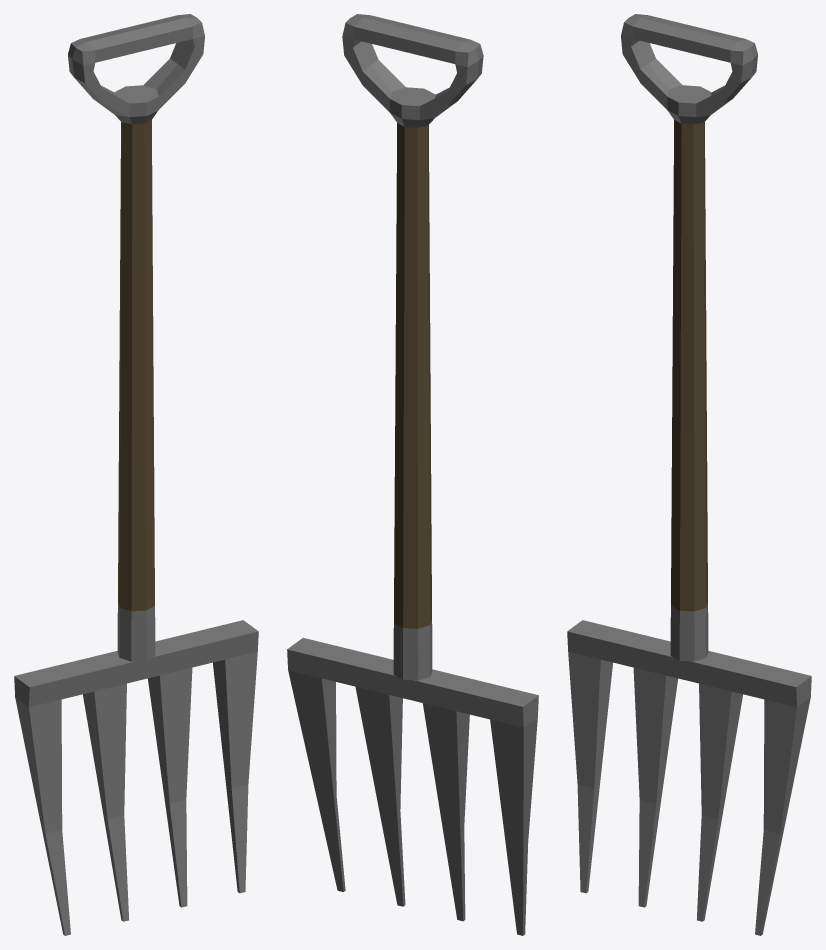
The model's file is rake.fbx.
3 renders of one model, left to right at view 1: azimuth 30°, elevation 25°; view 2: azimuth 150°, elevation 25°; view 3: azimuth 330°, elevation 25°, orthographic. The views are drawn at different scales.
Visible parts, largest first — view 1: Icosphere.017; view 2: Icosphere.017; view 3: Icosphere.017.
Boxes of the visible parts, left/top/right/bottom form: Icosphere.017: left=14, top=14, right=258, bottom=935; Icosphere.017: left=287, top=14, right=538, bottom=935; Icosphere.017: left=567, top=14, right=811, bottom=935.
Size of the model in its own units: 0.3891 by 1.41 by 0.0877.
